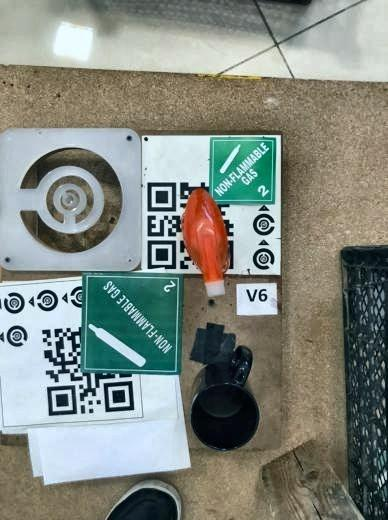non-flammable-gas: (83, 272, 181, 374), (209, 137, 277, 205)
